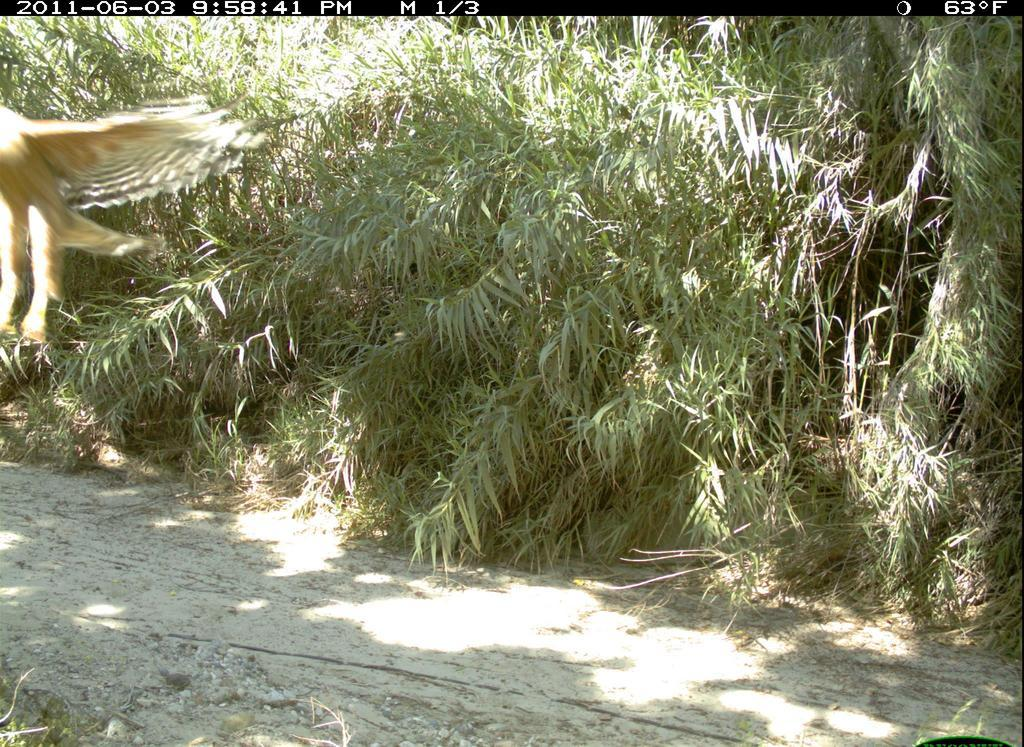bird: (1, 82, 273, 361)
